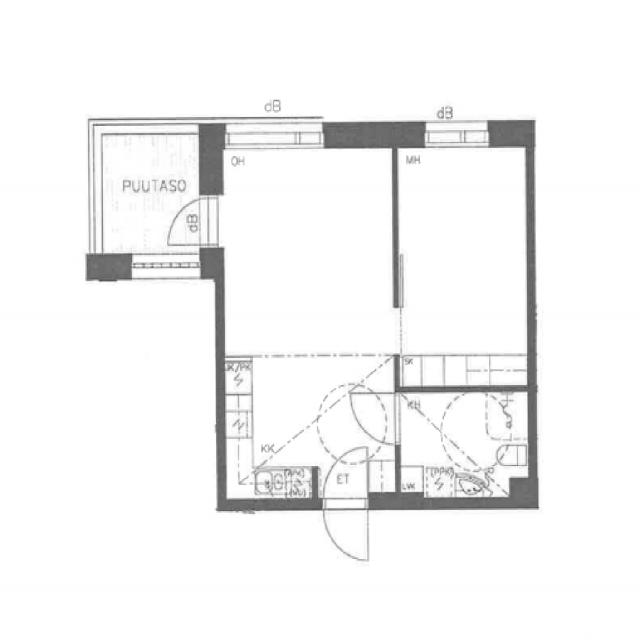door: (316, 452, 374, 565), (348, 375, 400, 449), (163, 194, 219, 252)
window: (416, 111, 500, 156), (225, 126, 332, 156), (125, 253, 206, 289)
zone: (221, 141, 401, 366), (392, 136, 532, 390), (223, 358, 371, 498), (395, 388, 530, 502)
